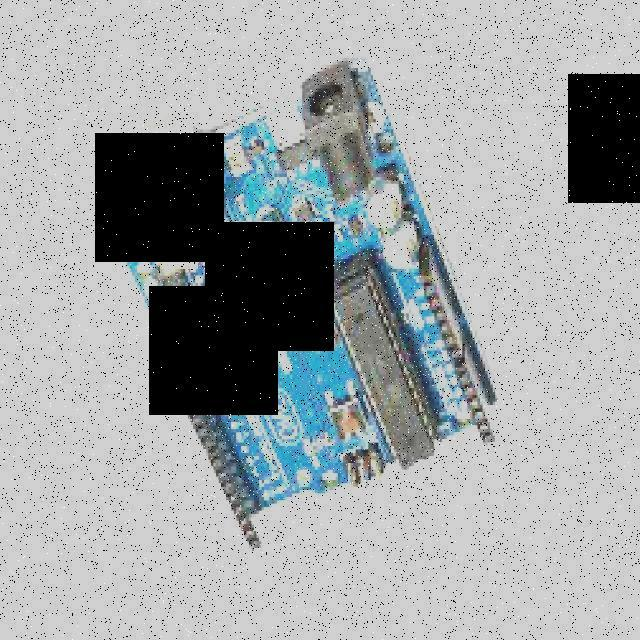arduino: (115, 62, 507, 549)
